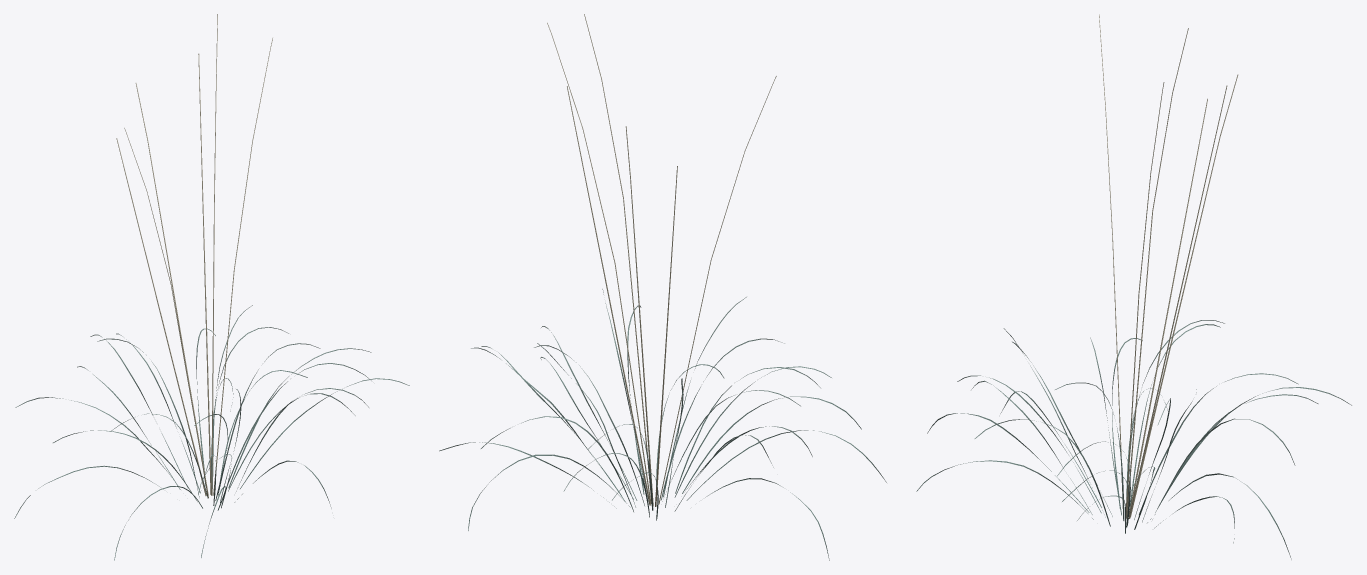
File: Blue Oat Grass C.glb
3 views of the same model, side by side, from view 1: azimuth 30°, elevation 25°; view 2: azimuth 150°, elevation 25°; view 3: azimuth 270°, elevation 25° (orthographic). The views are drawn at different scales.
Visible parts, largest first — view 1: Blue Oat Grass C; view 2: Blue Oat Grass C; view 3: Blue Oat Grass C.
Part boxes in pixels (<box>): Blue Oat Grass C: <box>14,14,409,560</box>; Blue Oat Grass C: <box>439,14,886,560</box>; Blue Oat Grass C: <box>916,14,1351,559</box>.
Size of the model in its own units: 0.8525 by 1.04 by 0.8091.
